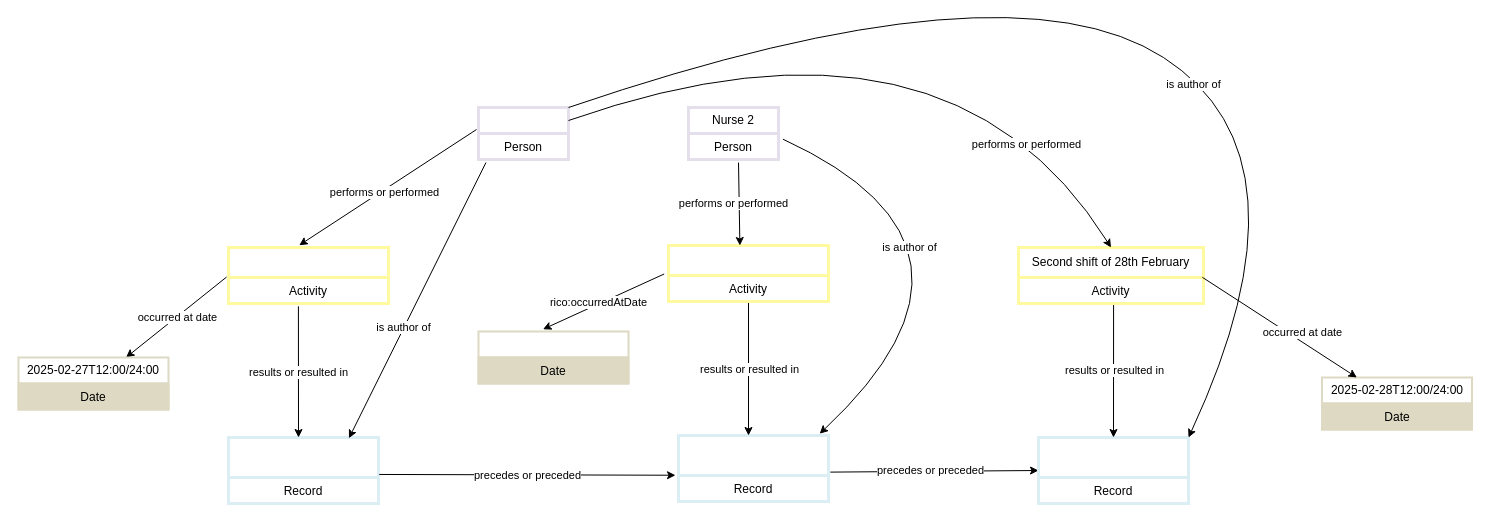
Image size: 1490x524. Some labels were removed from this diagram. Here are the shapes that lost their labels. From the top down, the box of each, then its label:
(476, 106, 570, 160): Nurse 1
(226, 246, 390, 304): Second shift of 27th February
(666, 244, 830, 302): First shift of 28th February
(477, 330, 629, 384): 2025-02-28T00:00/12:00
(226, 436, 380, 504): First end-of-shift report for patient A
(676, 434, 830, 502): Second end-of-shift report for patient A
(1036, 436, 1190, 504): Third end-of-shift report for patient A
